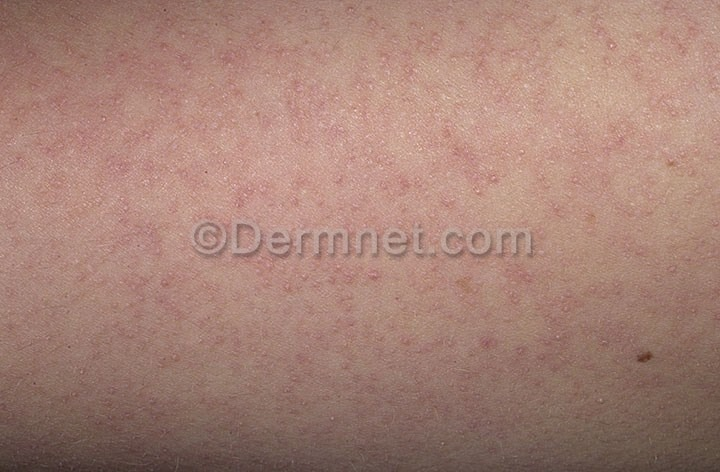Eczema: (10, 3, 720, 472)
